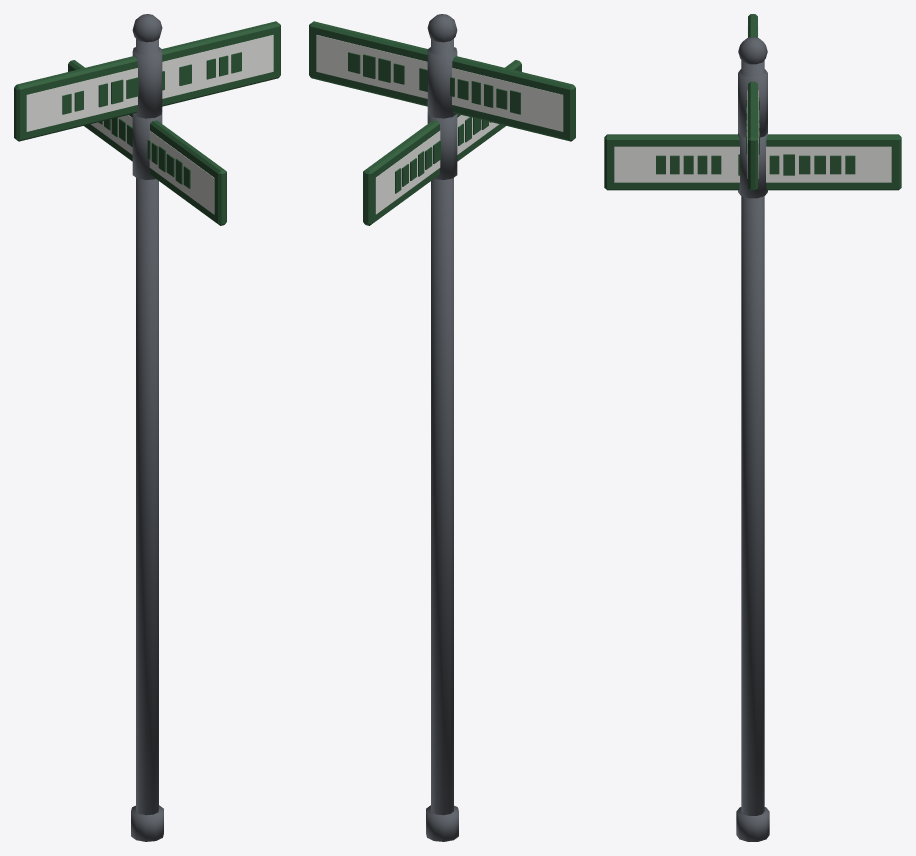
The model's file is sign.glb.
3 views of the same model, side by side, from view 1: azimuth 30°, elevation 25°; view 2: azimuth 150°, elevation 25°; view 3: azimuth 270°, elevation 25° (orthographic). The views are drawn at different scales.
Visible parts, largest first — view 1: sign; view 2: sign; view 3: sign.
Part boxes in pixels (bbox=[...]): sign: bbox=[14, 14, 280, 841]; sign: bbox=[309, 14, 575, 841]; sign: bbox=[604, 14, 901, 841].
Bounding box in the file's own units: 0.9 × 2.66 × 0.9.
